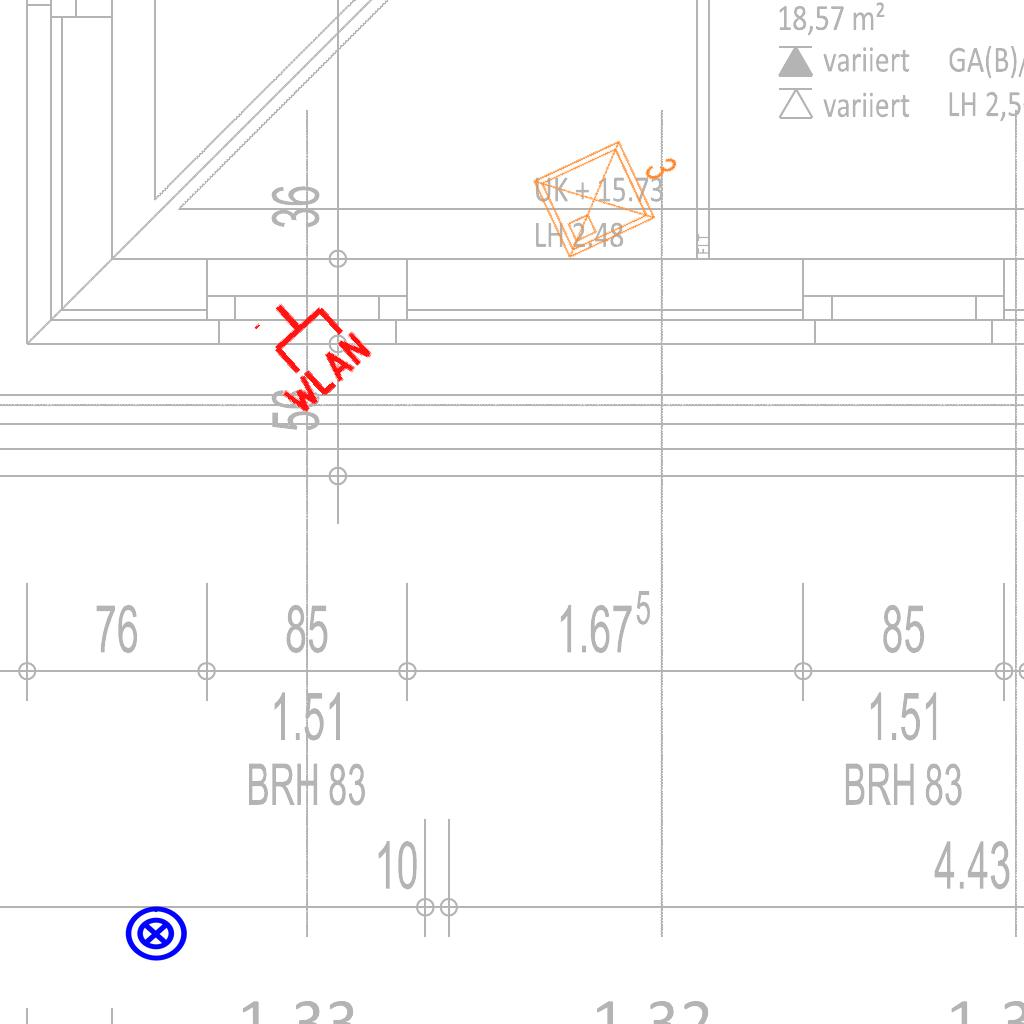Einbaudownlights_LED_Konferenzraeume: (522, 110, 702, 268)
Taster_beleuchtet: (123, 901, 189, 967)
WLAN: (229, 274, 378, 422)
